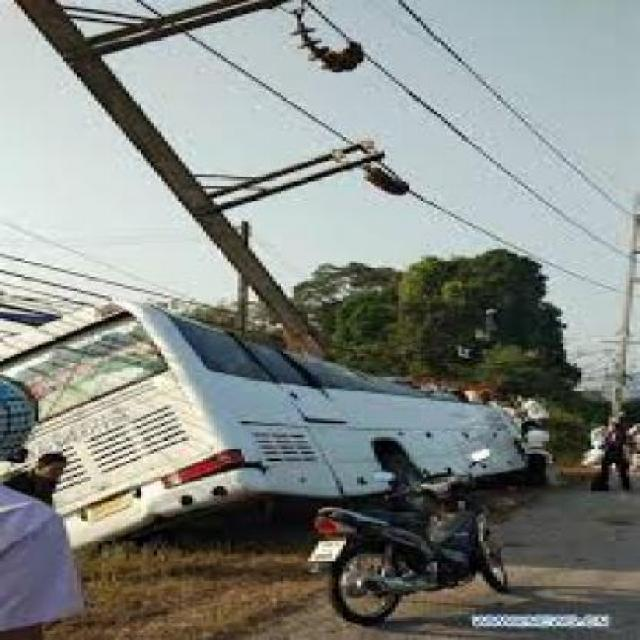accident: (4, 251, 640, 557)
